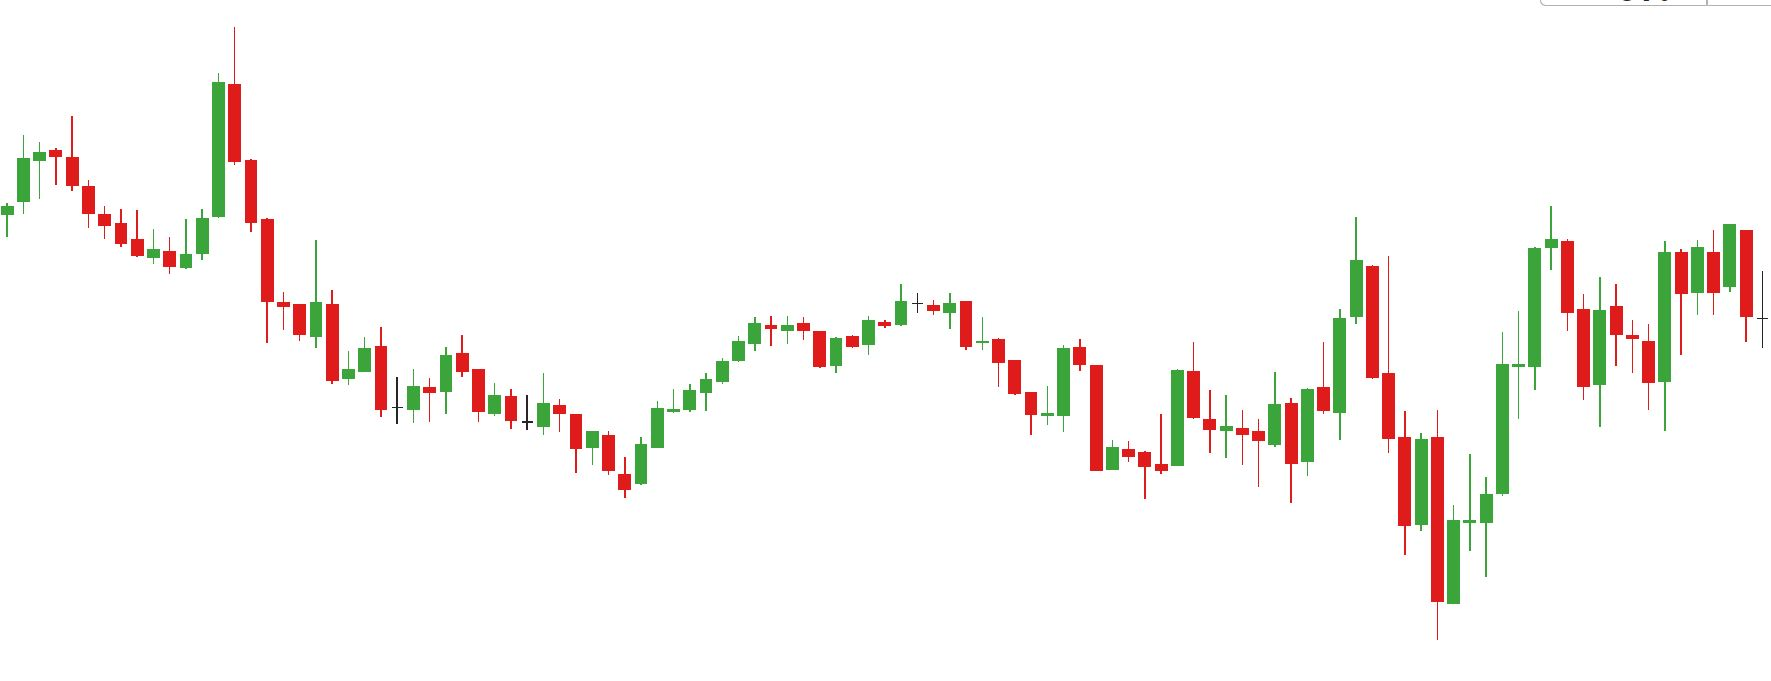buy: (1279, 328, 1428, 558), (1589, 295, 1674, 437)
sell: (63, 20, 244, 202)
